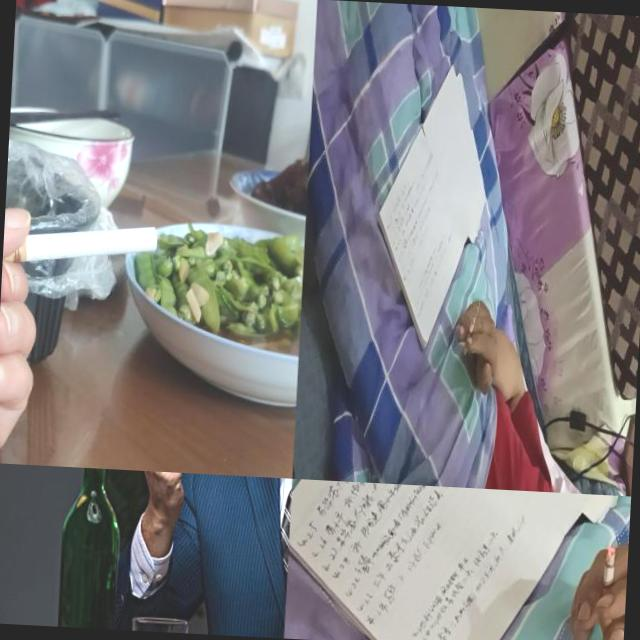smoke: (2, 218, 159, 282), (600, 542, 616, 612), (462, 298, 481, 356)
